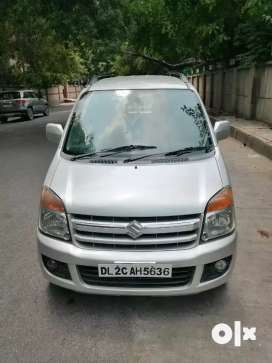license_plate: (97, 264, 174, 280)
